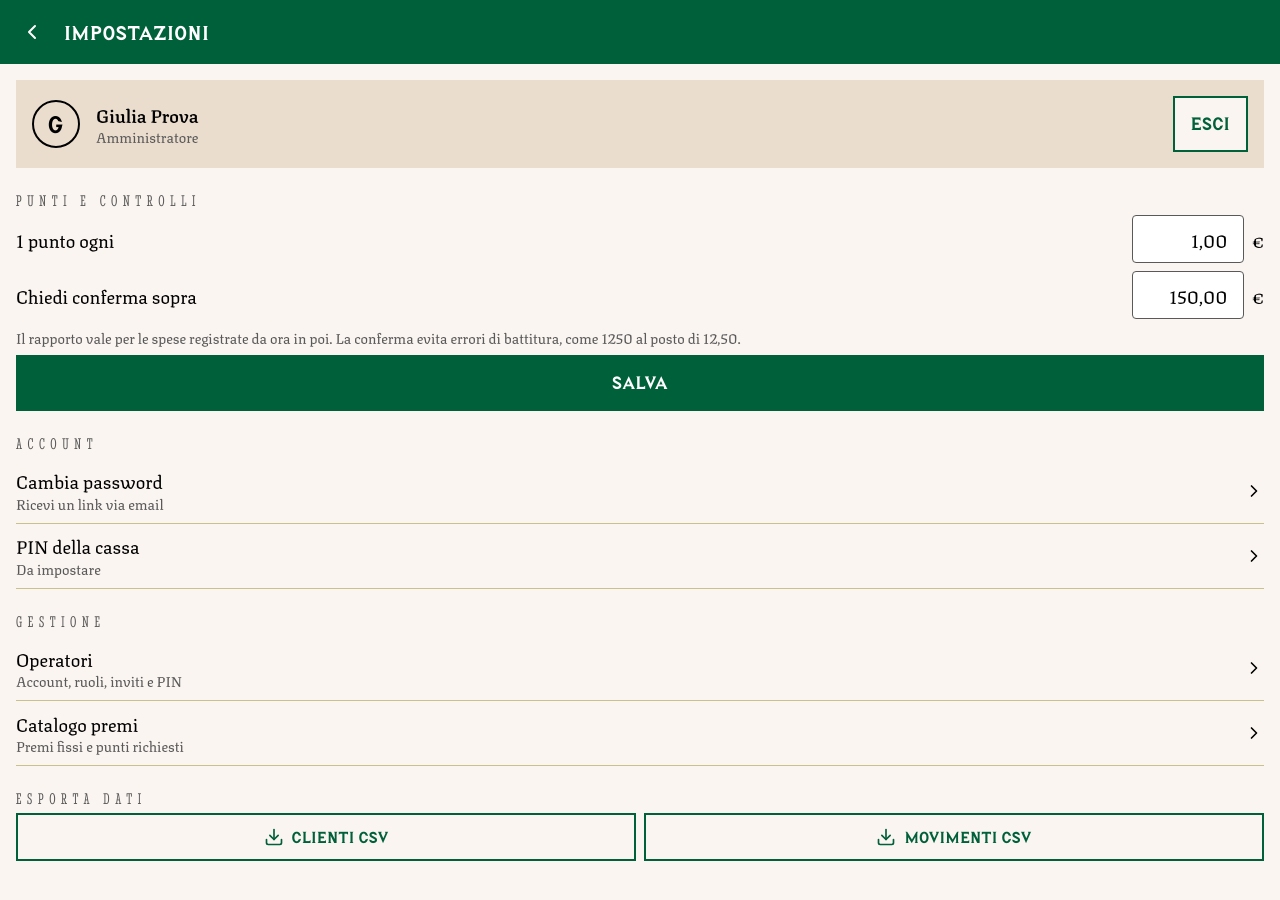
Test: points and controls section for administrators › removes the confirmation as soon as a field changes again
The width and height of the screenshot is (1280, 900).
Click the button "Salva" at (640, 384), box x1=16 y1=356 x2=1264 y2=412
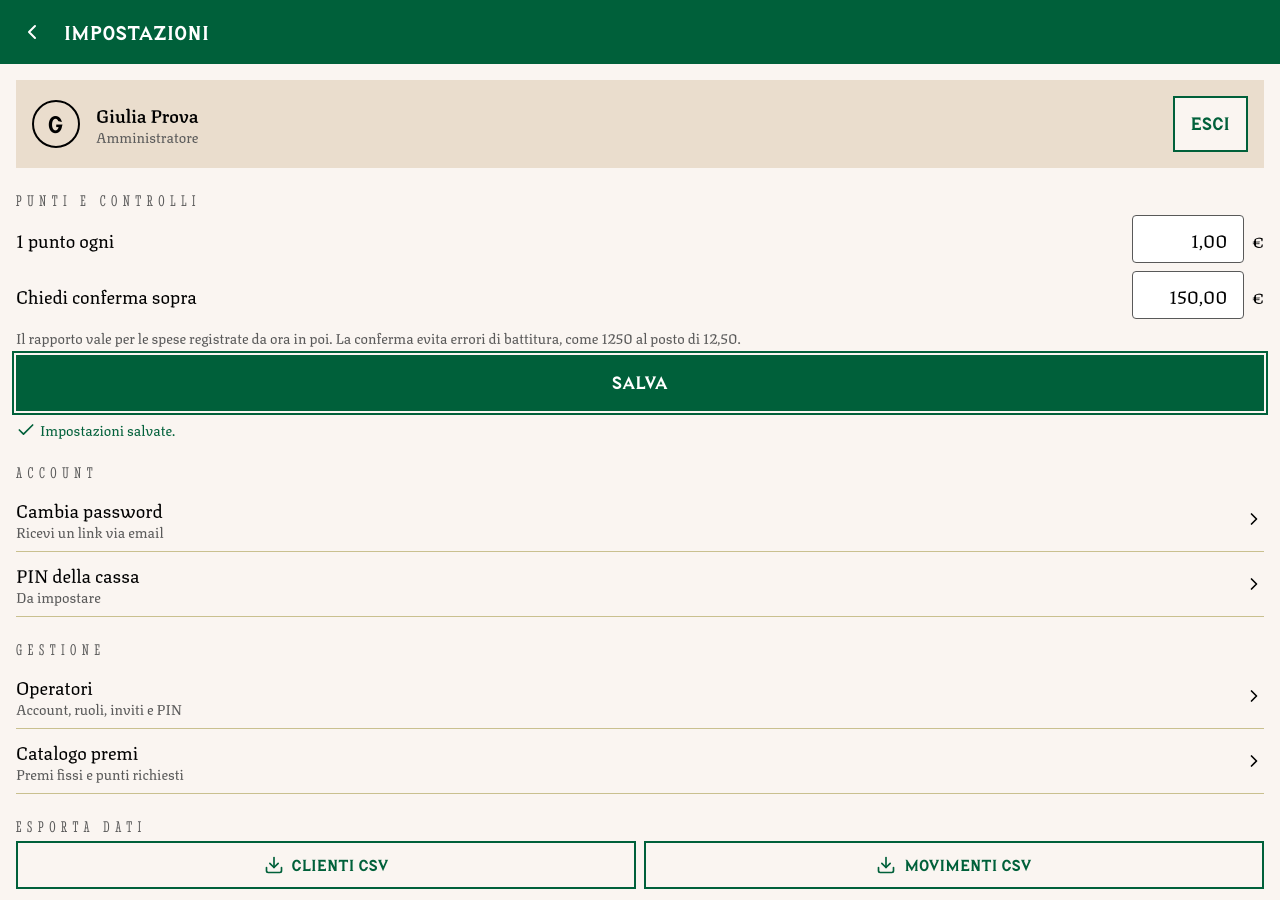
Now the text "Impostazioni salvate." is shown, box x1=16 y1=418 x2=175 y2=440
Type "5" into the field labelled "1 punto ogni" at (1188, 239), box x1=1132 y1=215 x2=1244 y2=263
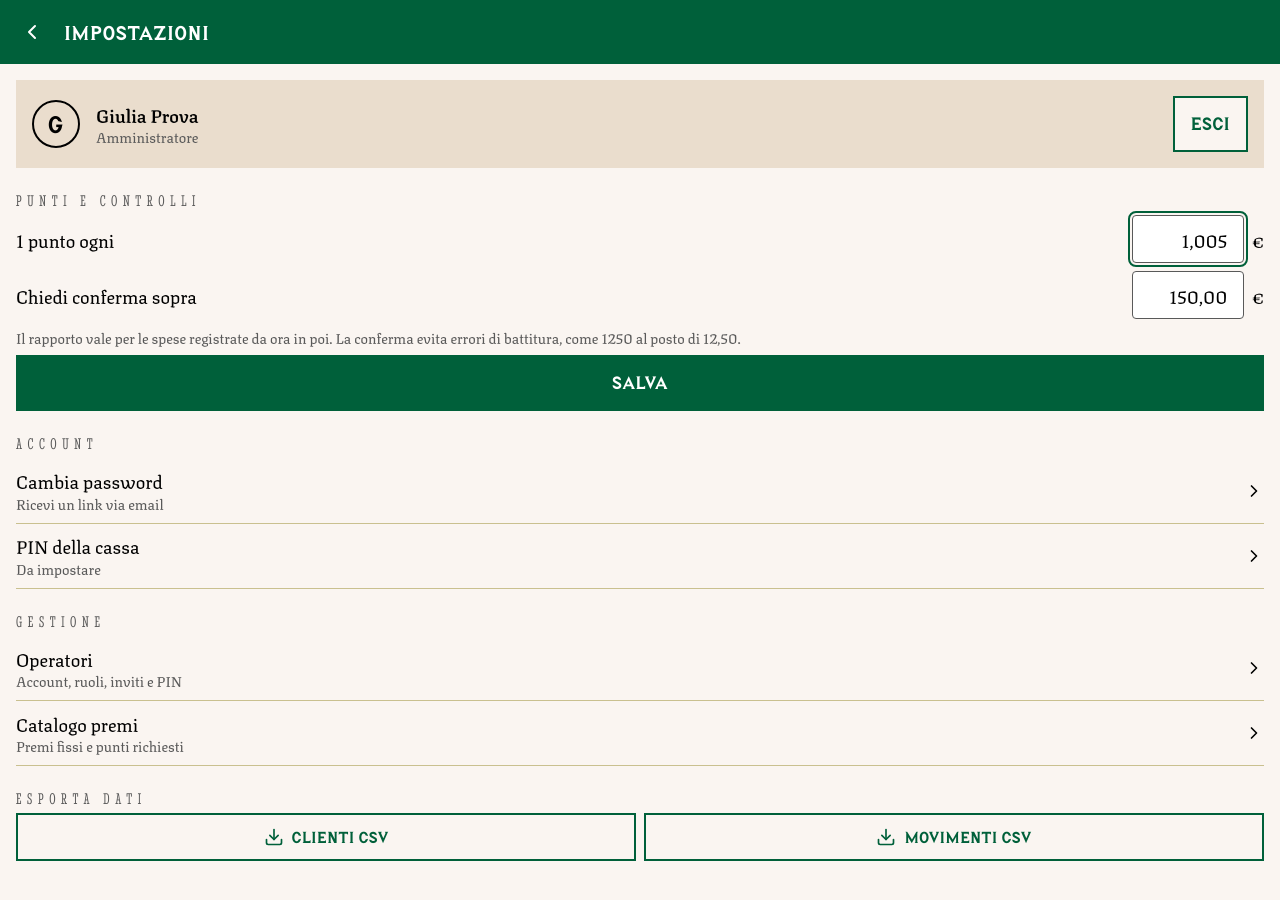
Now the text "Impostazioni salvate." is gone
